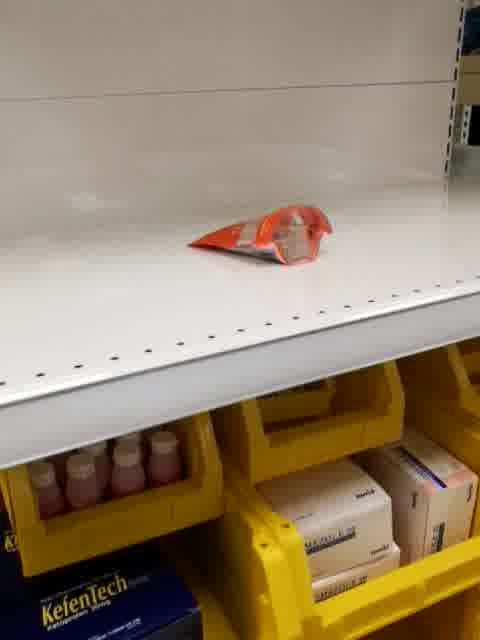whitechia: (183, 198, 335, 269)
